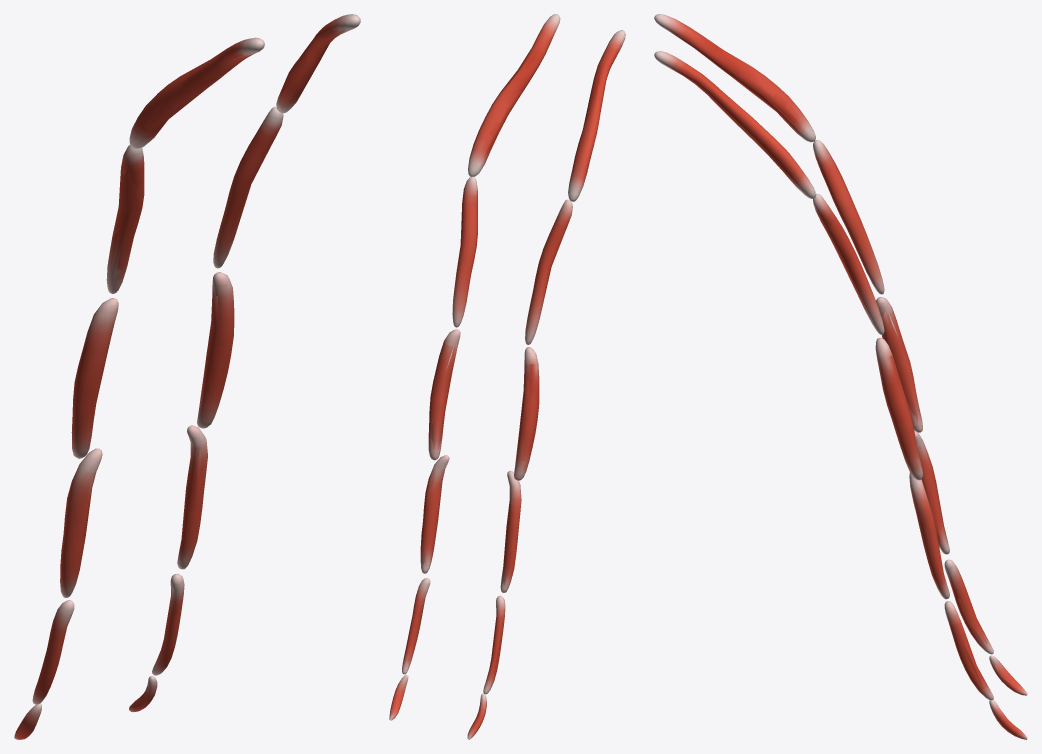
The model's file is Intertransverasrii Dorsales Cervicis.fbx.
3 views of the same model, side by side, from view 1: azimuth 30°, elevation 25°; view 2: azimuth 150°, elevation 25°; view 3: azimuth 270°, elevation 25° (orthographic). The views are drawn at different scales.
Visible parts, largest first — view 1: Intertransverasrii Dorsales Cervicis, Intertransverasrii Dorsales Cervicis low; view 2: Intertransverasrii Dorsales Cervicis, Intertransverasrii Dorsales Cervicis low; view 3: Intertransverasrii Dorsales Cervicis, Intertransverasrii Dorsales Cervicis low.
Part boxes in pixels (x1,y1,x2,y2): Intertransverasrii Dorsales Cervicis: (14, 14, 360, 739); Intertransverasrii Dorsales Cervicis low: (23, 14, 357, 727); Intertransverasrii Dorsales Cervicis: (389, 14, 625, 739); Intertransverasrii Dorsales Cervicis low: (390, 16, 624, 739); Intertransverasrii Dorsales Cervicis: (654, 14, 1027, 739); Intertransverasrii Dorsales Cervicis low: (655, 16, 1026, 726).
Size of the model in its own units: 9.84 by 49.21 by 24.34.
Materials: 1 (1 with a texture image).
